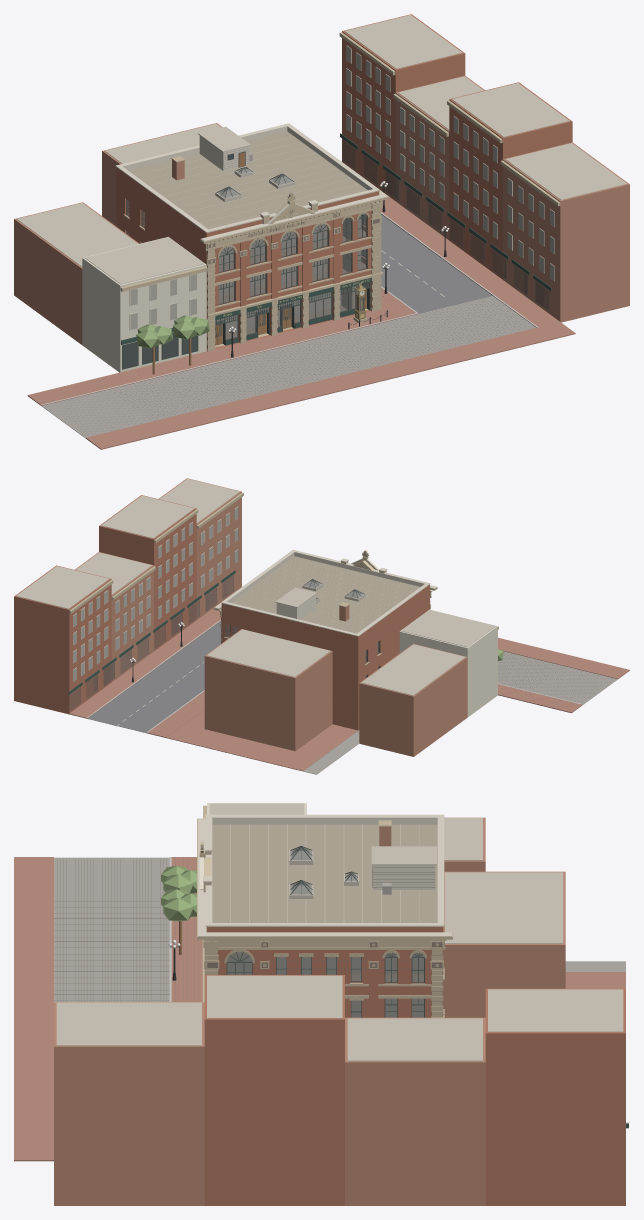
File: clay-gastown-heritage-commercial-clay-v001.glb
3 views of the same model, one above another, from view 1: azimuth 30°, elevation 25°; view 2: azimuth 150°, elevation 25°; view 3: azimuth 270°, elevation 25° (orthographic). The views are drawn at different scales.
Parts seen in each view (by area): view 1: CLAY_BRICK2, CLAY_WALL, CLAY_MEMBRANE, CLAY_COBBLE, CLAY_PAVER, CLAY_GLASS, CLAY_TRIM, CLAY_ROOF, CLAY_STONE, CLAY_CREAM, CLAY_JOINT, CLAY_ASPHALT (+8 smaller); view 2: CLAY_BRICK2, CLAY_WALL, CLAY_MEMBRANE, CLAY_PAVER, CLAY_TRIM, CLAY_ROOF, CLAY_ASPHALT, CLAY_GLASS, CLAY_COBBLE, CLAY_CREAM, CLAY_STONE, CLAY_JOINT (+3 smaller); view 3: CLAY_WALL, CLAY_BRICK2, CLAY_MEMBRANE, CLAY_ROOF, CLAY_COBBLE, CLAY_PAVER, CLAY_TRIM, CLAY_JOINT, CLAY_STONE, CLAY_GLASS, CLAY_INTERIOR, CLAY_PLANTING (+2 smaller).
Boxes of the visible parts, bbox=[...] form: CLAY_BRICK2: bbox=[14, 75, 629, 344]; CLAY_WALL: bbox=[116, 14, 572, 350]; CLAY_MEMBRANE: bbox=[17, 15, 626, 284]; CLAY_COBBLE: bbox=[42, 296, 535, 438]; CLAY_PAVER: bbox=[27, 197, 575, 449]; CLAY_GLASS: bbox=[123, 47, 553, 368]; CLAY_TRIM: bbox=[115, 45, 554, 330]; CLAY_ROOF: bbox=[128, 131, 367, 229]; CLAY_STONE: bbox=[120, 32, 560, 351]; CLAY_CREAM: bbox=[82, 237, 206, 372]; CLAY_JOINT: bbox=[33, 147, 533, 436]; CLAY_ASPHALT: bbox=[364, 214, 492, 313]; CLAY_BRICK2: bbox=[75, 478, 467, 756]; CLAY_WALL: bbox=[14, 495, 429, 730]; CLAY_MEMBRANE: bbox=[16, 478, 495, 695]; CLAY_PAVER: bbox=[69, 608, 629, 771]; CLAY_TRIM: bbox=[73, 506, 436, 726]; CLAY_ROOF: bbox=[231, 556, 420, 633]; CLAY_ASPHALT: bbox=[88, 621, 220, 732]; CLAY_GLASS: bbox=[70, 507, 379, 710]; CLAY_COBBLE: bbox=[303, 651, 617, 774]; CLAY_CREAM: bbox=[399, 609, 497, 717]; CLAY_STONE: bbox=[69, 492, 498, 665]; CLAY_JOINT: bbox=[152, 617, 612, 734]; CLAY_WALL: bbox=[204, 927, 625, 1205]; CLAY_BRICK2: bbox=[54, 817, 565, 1205]; CLAY_MEMBRANE: bbox=[56, 803, 623, 1061]; CLAY_ROOF: bbox=[212, 824, 437, 922]; CLAY_COBBLE: bbox=[54, 857, 625, 1001]; CLAY_PAVER: bbox=[14, 857, 625, 1161]; CLAY_TRIM: bbox=[198, 814, 629, 1122]; CLAY_JOINT: bbox=[54, 858, 442, 1016]; CLAY_STONE: bbox=[54, 805, 452, 1017]; CLAY_GLASS: bbox=[227, 847, 424, 1017]; CLAY_INTERIOR: bbox=[227, 951, 424, 1016]; CLAY_PLANTING: bbox=[161, 866, 196, 921].
Size of the model in its own units: 82 by 20.56 by 61.4.
